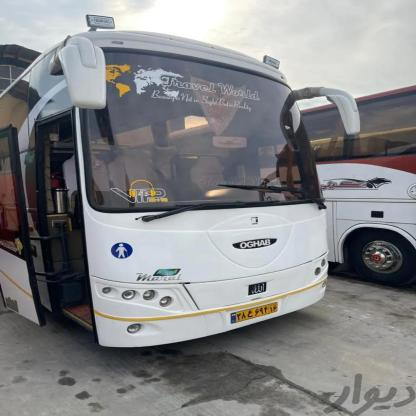Bus: (0, 24, 345, 352), (318, 78, 416, 313)
